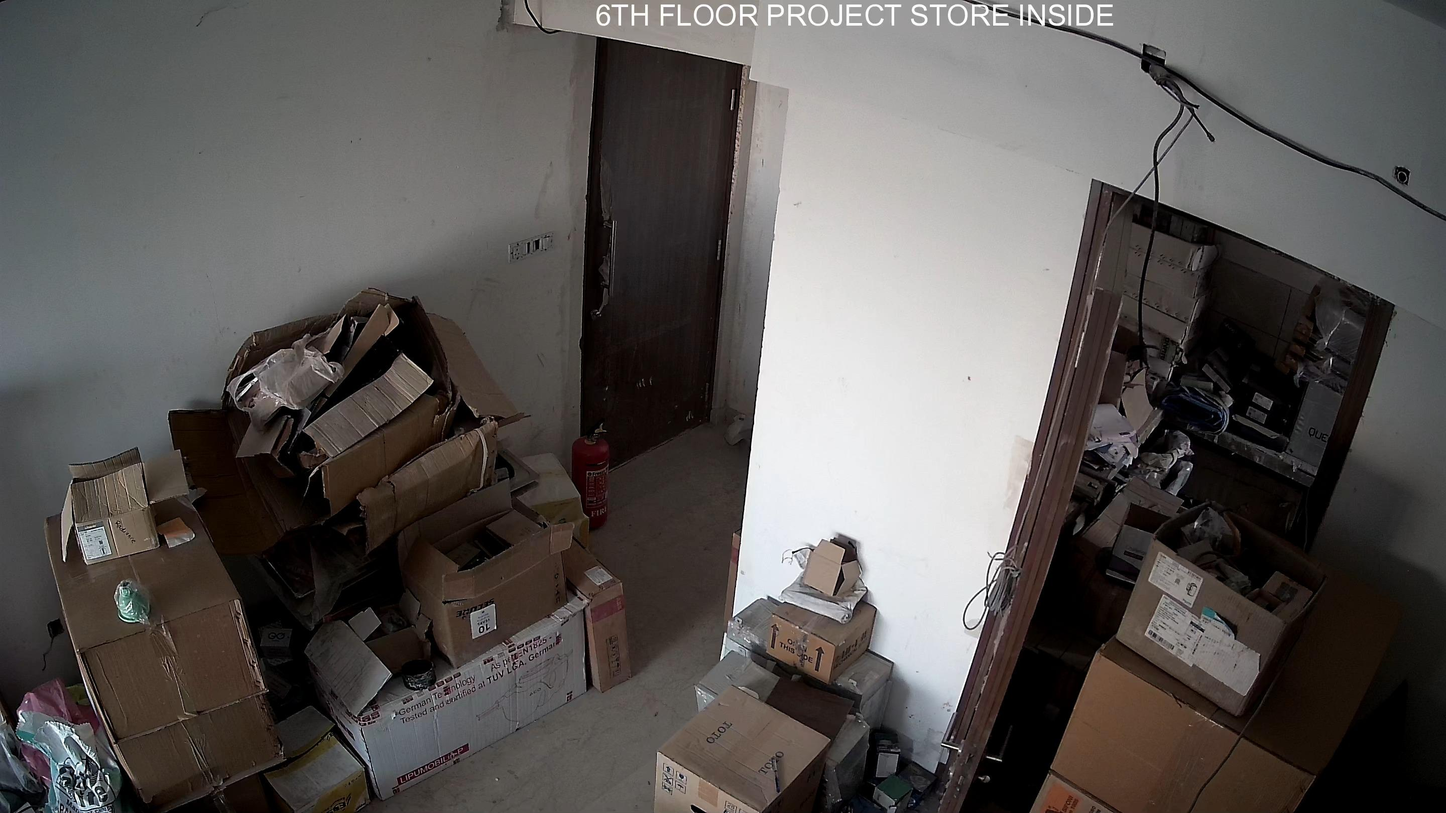Door-Close: (564, 34, 727, 467)
